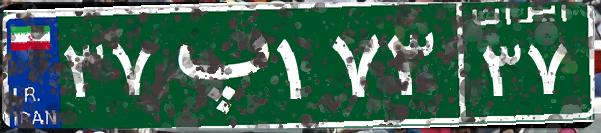1: (273, 28, 330, 110)
3: (385, 28, 445, 110), (57, 26, 110, 107), (475, 38, 525, 113)
7: (330, 28, 385, 110), (110, 28, 158, 105), (525, 38, 570, 115)
پ: (158, 15, 273, 115)
